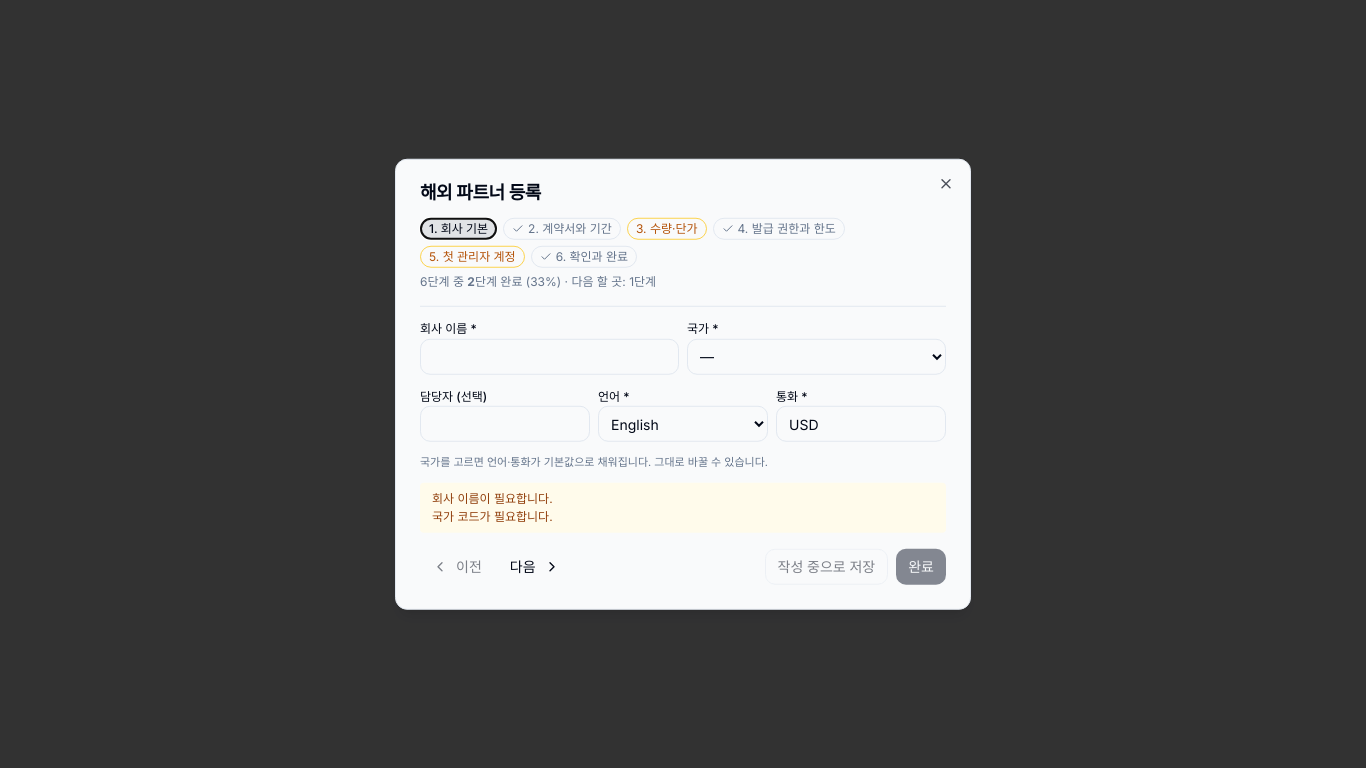
Test case: 마법사 화면 › 단계 조각을 눌러 옮겨 다닐 수 있다
Click the button "5. 첫 관리자 계정". click: (472, 257)
box: [420, 246, 525, 268]
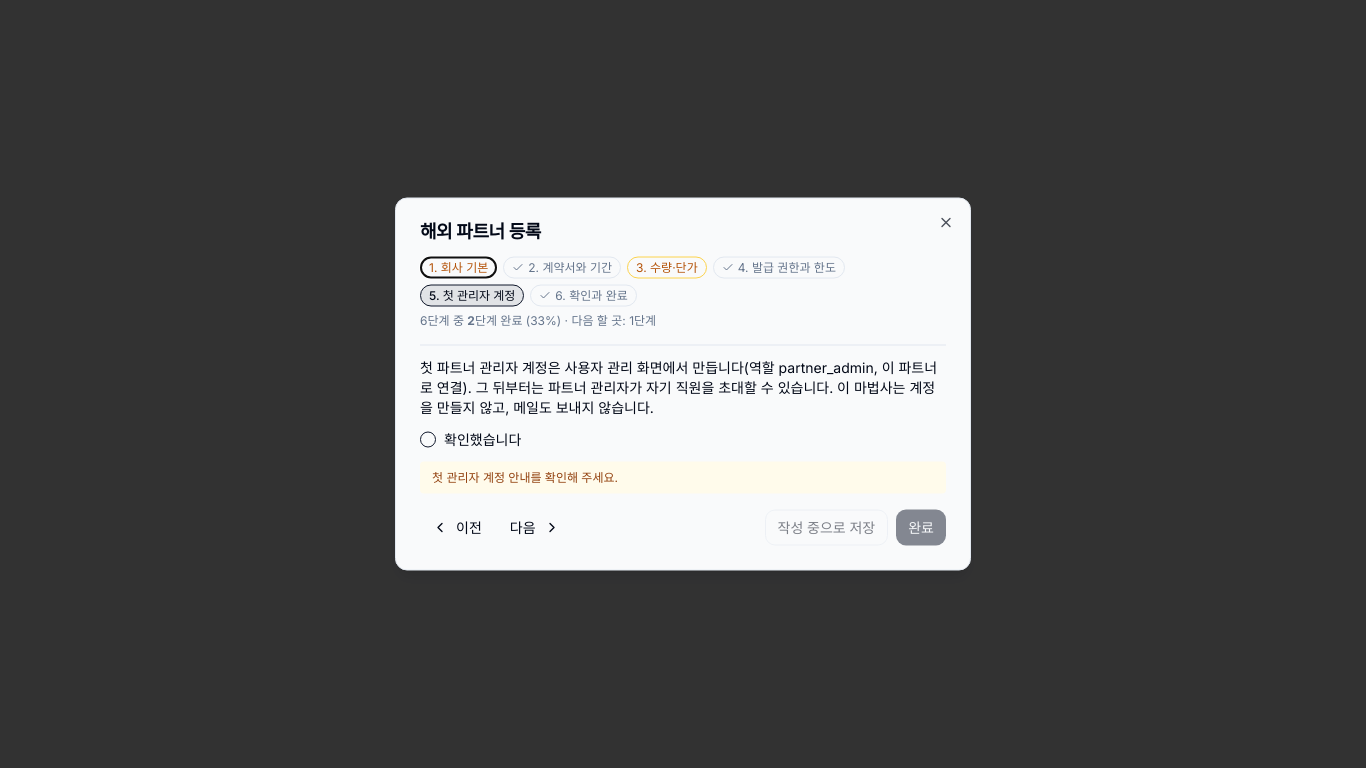
Expected: the text "계정을 만들지 않고, 메일도 보내지 않습니다" is shown, [420, 358, 937, 416]
